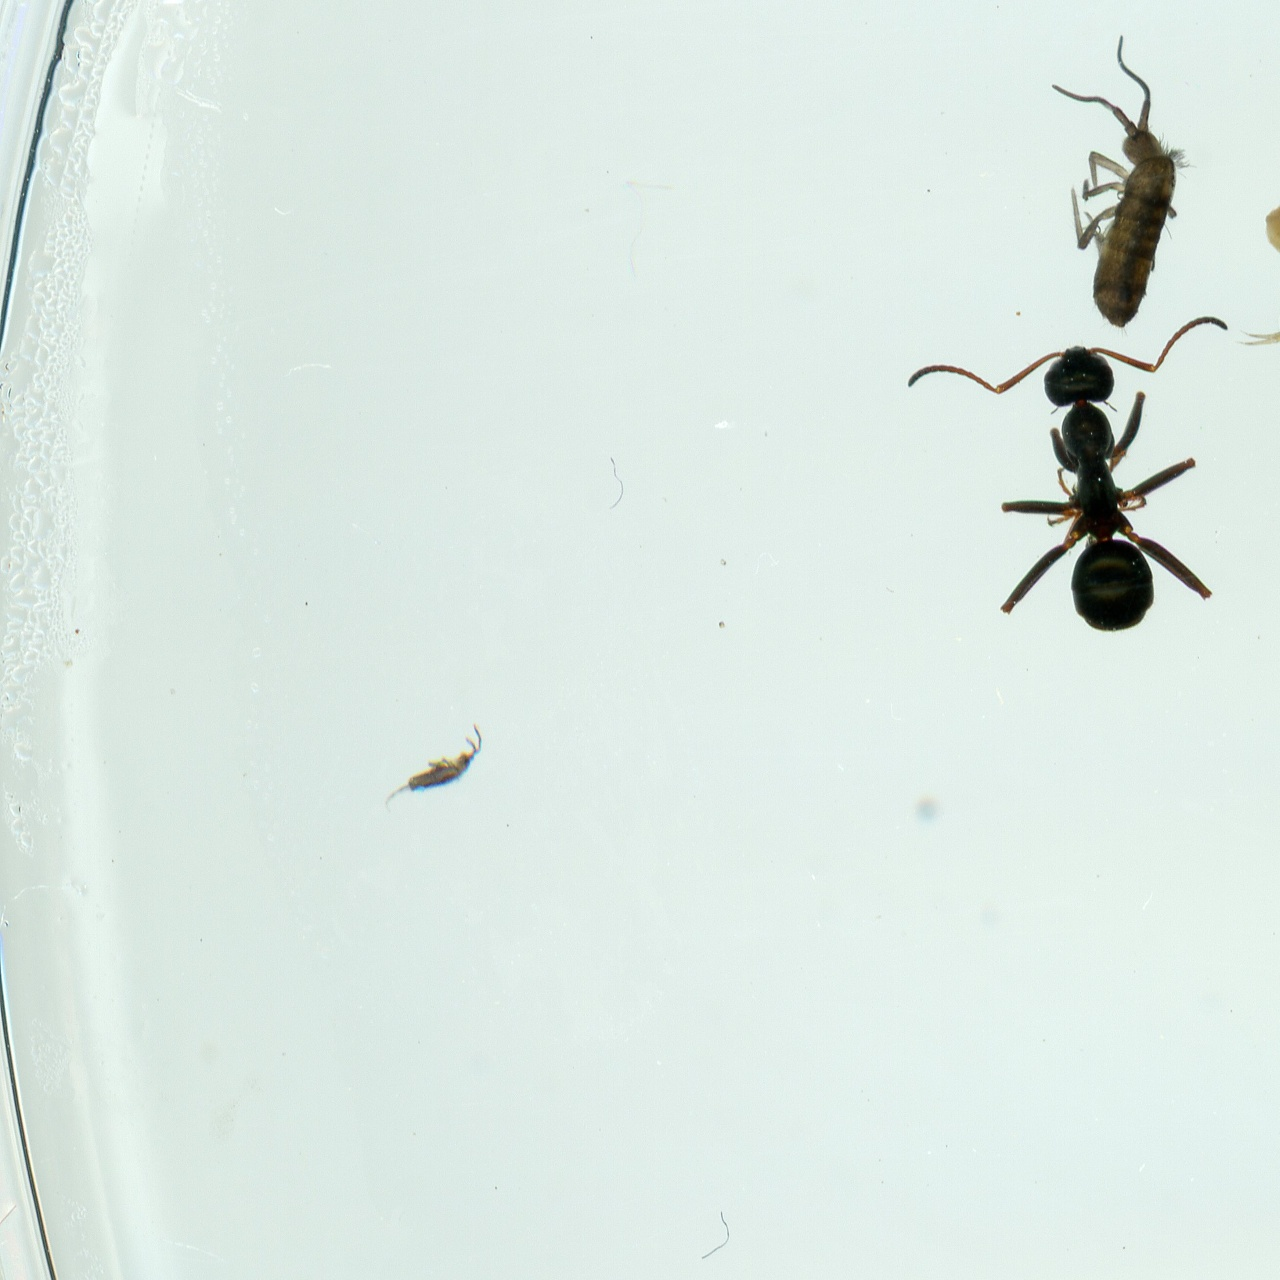arthropod: (907, 316, 1231, 633), (1050, 34, 1192, 325), (380, 725, 489, 806), (1238, 295, 1280, 410)
